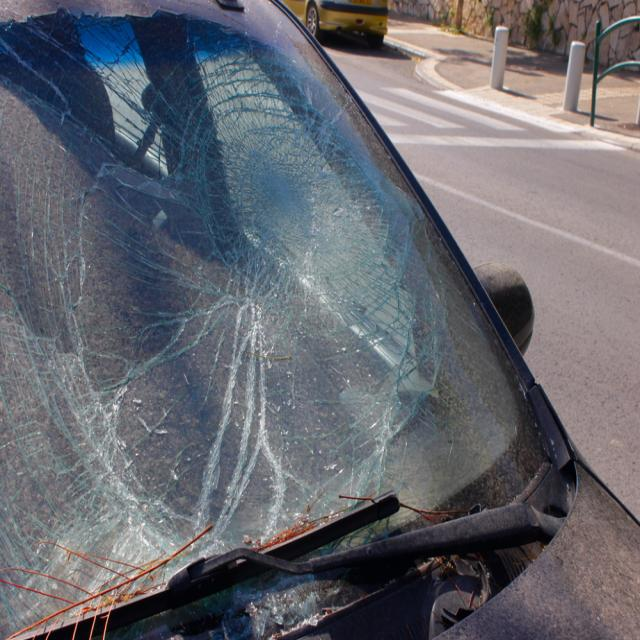glass shatter: (0, 0, 547, 640)
